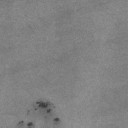iron sheet ash: (36, 101, 51, 109), (16, 120, 24, 126), (46, 109, 51, 114), (54, 118, 60, 122), (28, 122, 32, 126)
